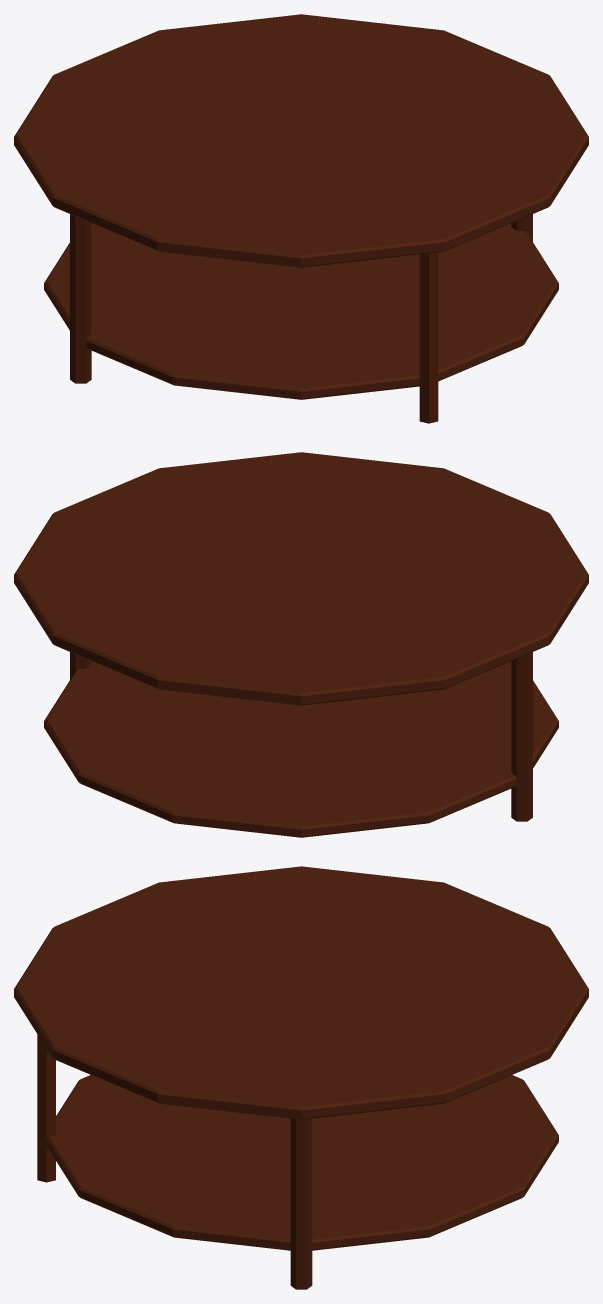
File: RoundedCoffeTable1.glb
3 renders of one model, top to bottom at view 1: azimuth 30°, elevation 25°; view 2: azimuth 150°, elevation 25°; view 3: azimuth 270°, elevation 25°, orthographic.
Parts seen in each view (by area): view 1: RoundedCoffeTable1; view 2: RoundedCoffeTable1; view 3: RoundedCoffeTable1.
Part boxes in pixels (<box>): RoundedCoffeTable1: <box>14,14,588,423</box>; RoundedCoffeTable1: <box>14,452,588,837</box>; RoundedCoffeTable1: <box>14,866,588,1289</box>.
Size of the model in its own units: 1.58 by 0.5797 by 1.58.
